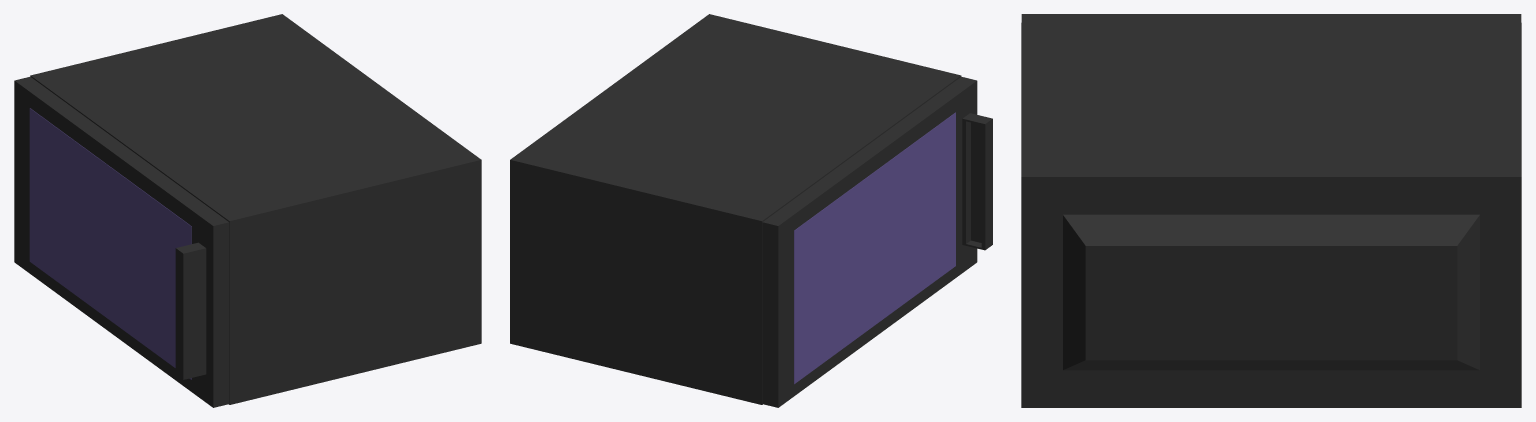
Rendered from Microwave.FBX.
3 views of the same model, side by side, from view 1: azimuth 30°, elevation 25°; view 2: azimuth 150°, elevation 25°; view 3: azimuth 270°, elevation 25° (orthographic). The views are drawn at different scales.
Visible parts, largest first — view 1: Box002, Object002, Object001; view 2: Box002, Object002, Object001; view 3: Box002, Object001.
Part boxes in pixels (left/top/right/bottom): Box002: left=30, top=14, right=481, bottom=404; Object002: left=29, top=108, right=191, bottom=379; Object001: left=14, top=76, right=229, bottom=407; Box002: left=510, top=14, right=961, bottom=404; Object002: left=794, top=112, right=955, bottom=384; Object001: left=762, top=76, right=992, bottom=407; Box002: left=1021, top=22, right=1521, bottom=407; Object001: left=1021, top=14, right=1521, bottom=22.
Size of the model in its own units: 46.31 by 26.42 by 51.86.
